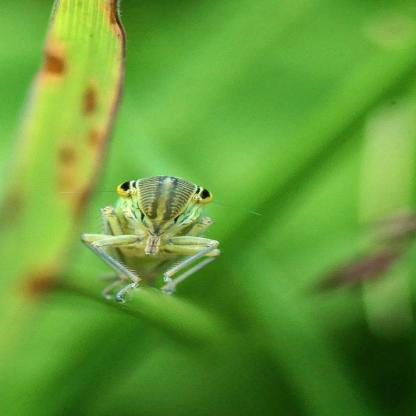Green-Leafhopper: (67, 168, 236, 310)
